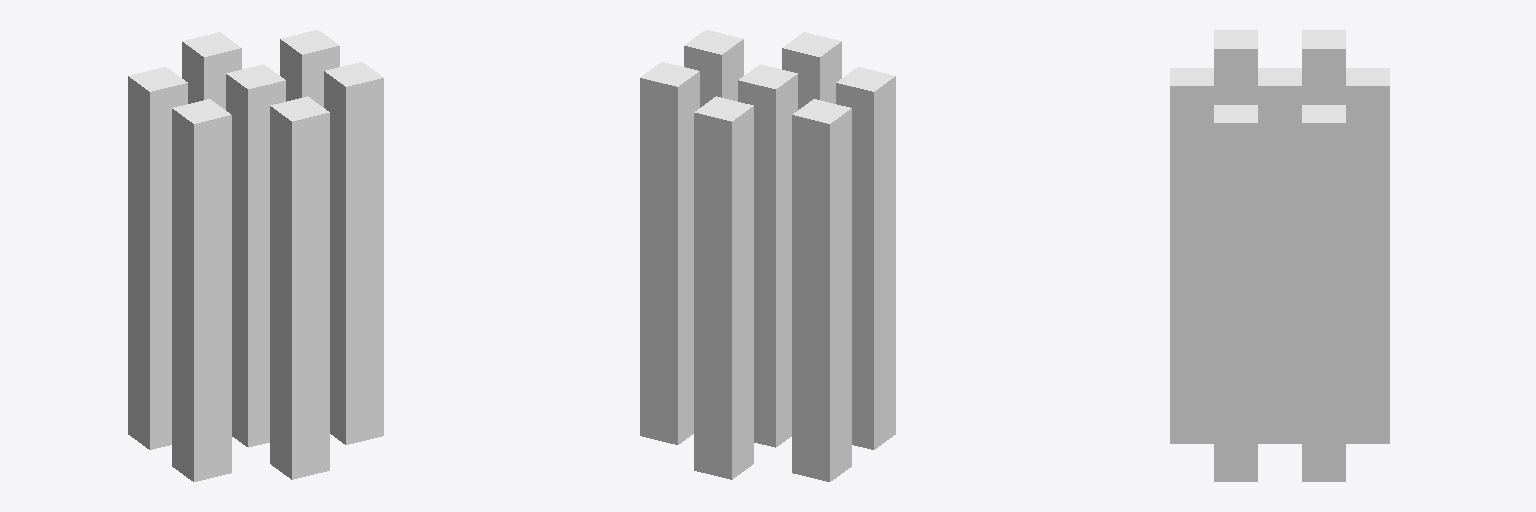
File: Straws.obj
3 renders of one model, left to right at view 1: azimuth 30°, elevation 25°; view 2: azimuth 150°, elevation 25°; view 3: azimuth 270°, elevation 25°, orthographic.
Parts seen in each view (by area): view 1: object 1; view 2: object 1; view 3: object 1.
Part boxes in pixels (left/top/right/bottom): object 1: left=128, top=30, right=383, bottom=481; object 1: left=640, top=30, right=895, bottom=481; object 1: left=1170, top=30, right=1389, bottom=481.
Size of the model in its own units: 0.5 by 0.9 by 0.5.